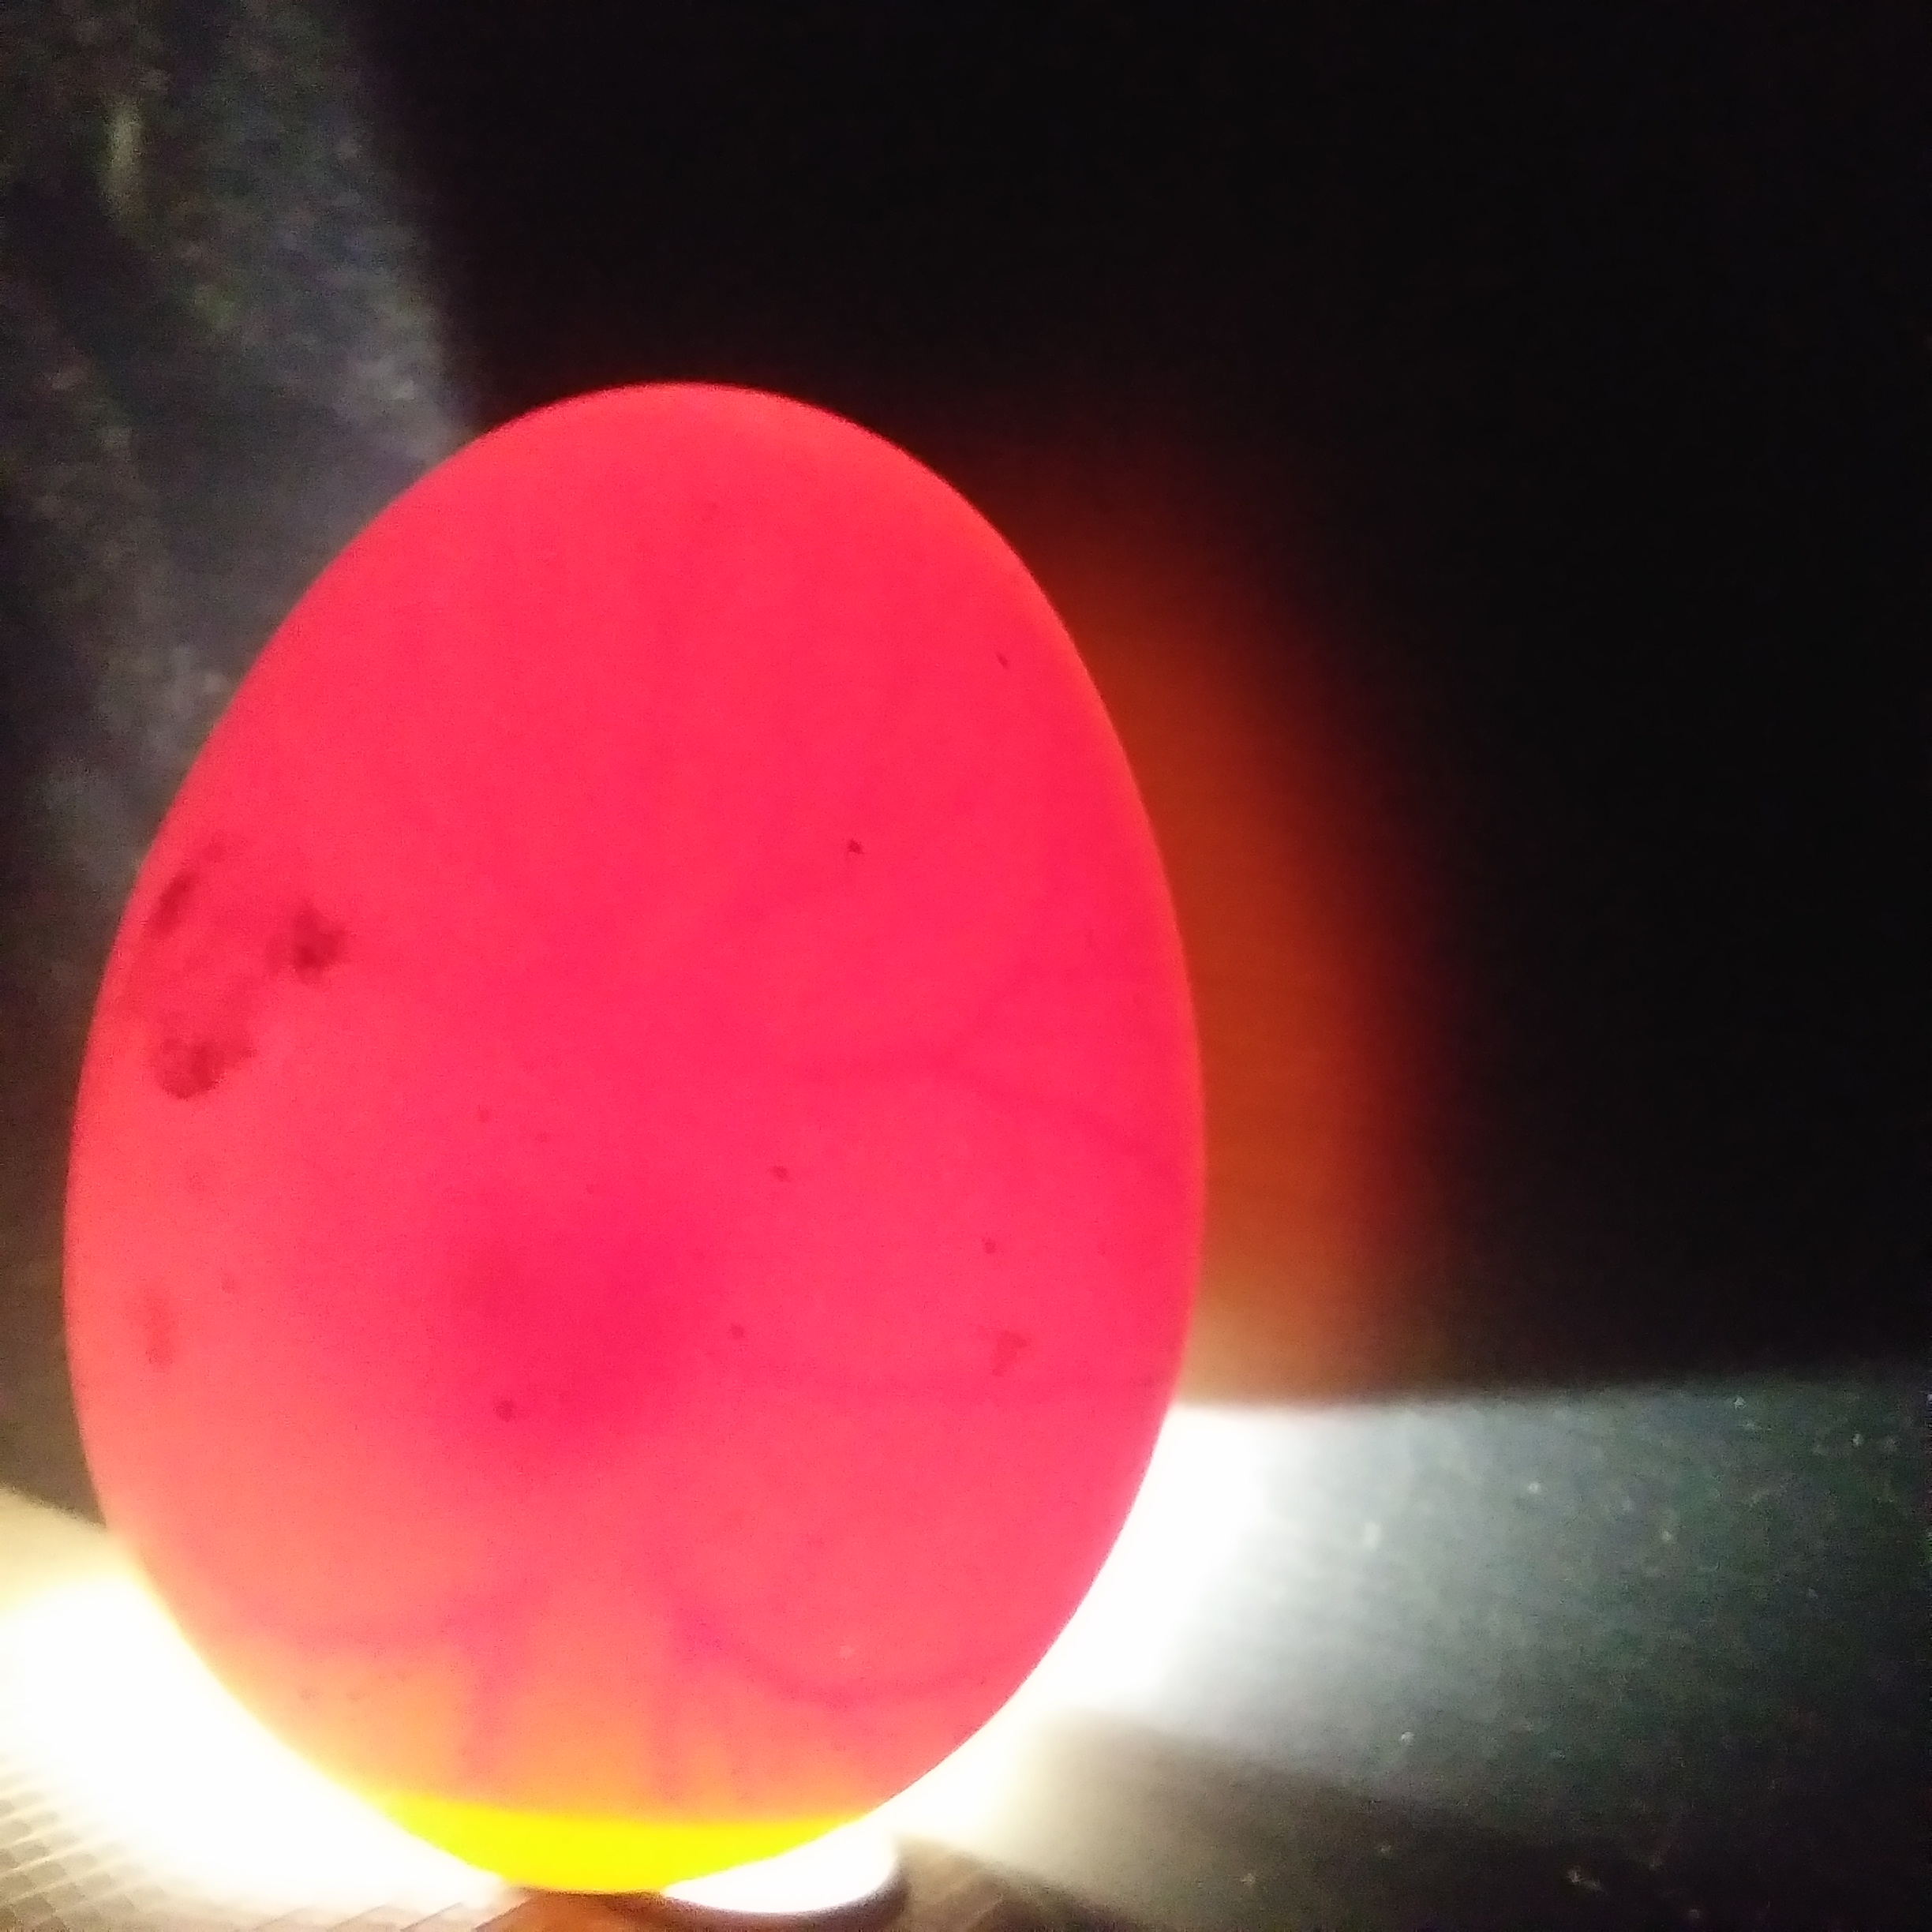bloodcell: (840, 878, 1145, 1476), (357, 1534, 879, 1785)
embryo: (433, 1221, 669, 1495)
